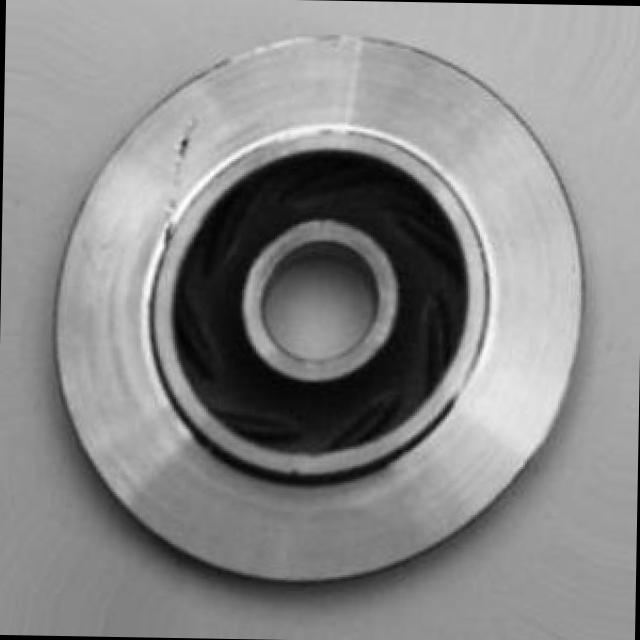Defect: (167, 124, 198, 161)
